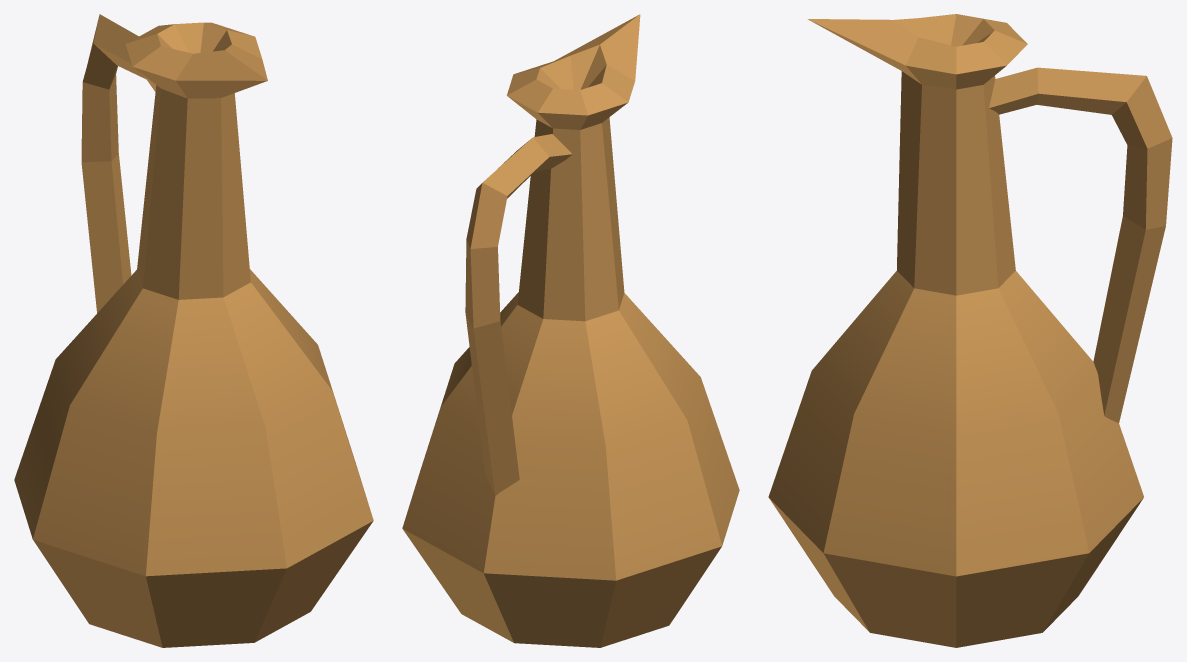
Rendered from SM_Prop_Gold_Teapot_03.fbx.
3 views of the same model, side by side, from view 1: azimuth 30°, elevation 25°; view 2: azimuth 150°, elevation 25°; view 3: azimuth 270°, elevation 25° (orthographic). The views are drawn at different scales.
Visible parts, largest first — view 1: SM_Prop_Gold_Teapot_03; view 2: SM_Prop_Gold_Teapot_03; view 3: SM_Prop_Gold_Teapot_03.
Part boxes in pixels (left/top/right/bottom): SM_Prop_Gold_Teapot_03: left=14, top=14, right=373, bottom=647; SM_Prop_Gold_Teapot_03: left=402, top=14, right=739, bottom=647; SM_Prop_Gold_Teapot_03: left=768, top=14, right=1172, bottom=647.
Bounding box in the file's own units: 26.96 × 45.71 × 28.99.
